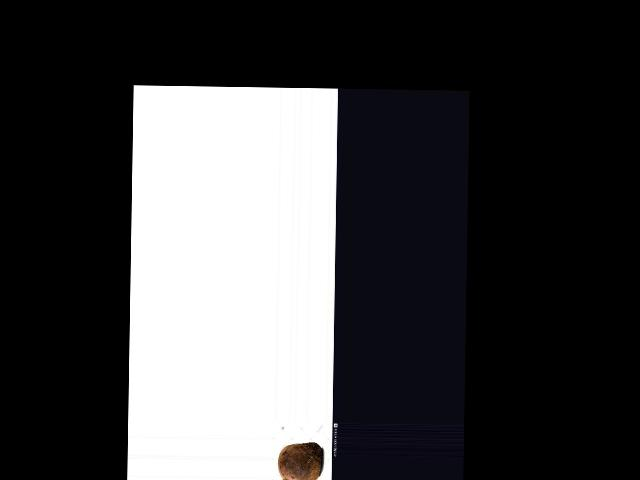beet: (278, 442, 323, 480)
